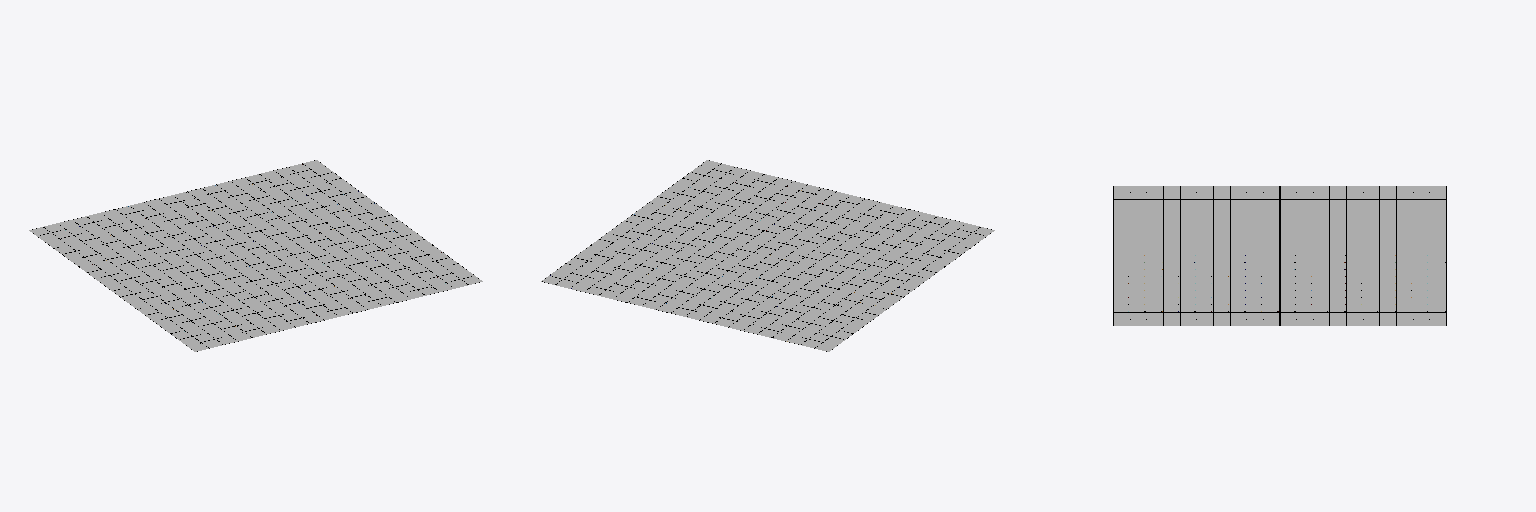
The picture shows the model from 3 angles: view 1: azimuth 30°, elevation 25°; view 2: azimuth 150°, elevation 25°; view 3: azimuth 270°, elevation 25°; orthographic projection.
Parts seen in each view (by area): view 1: Floor; view 2: Floor; view 3: Floor.
Boxes of the visible parts, x1,y1,x2,y2 form: Floor: [29, 160, 482, 351]; Floor: [541, 160, 994, 351]; Floor: [1113, 186, 1446, 325].
Bounding box in the file's own units: 20 × 0 × 20.
1 materials, 1 textured.